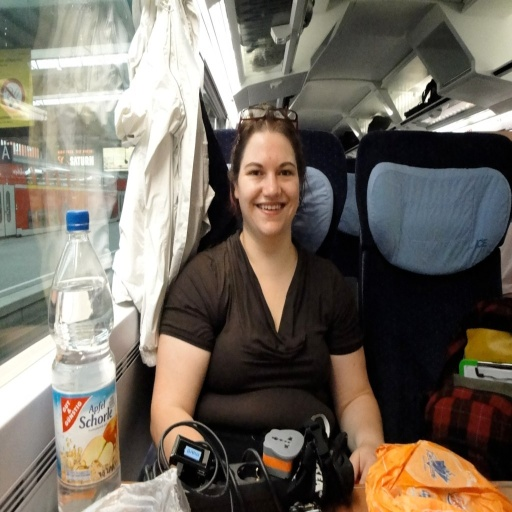hand: (346, 442, 379, 480)
